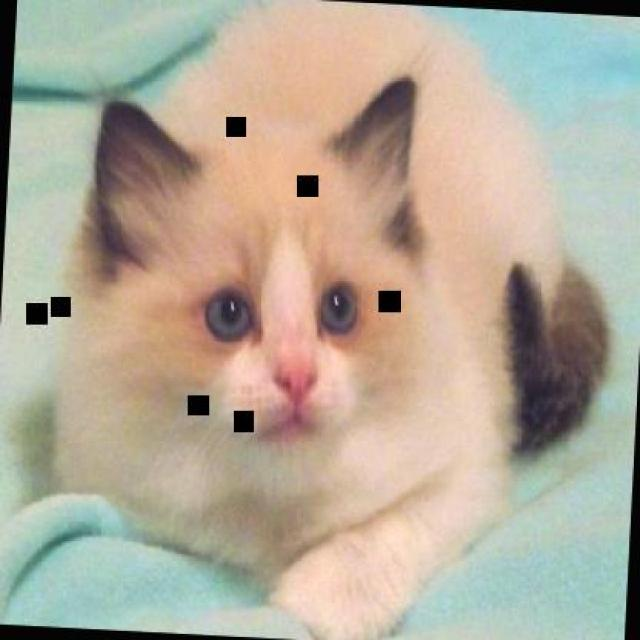cat: (41, 0, 629, 638)
